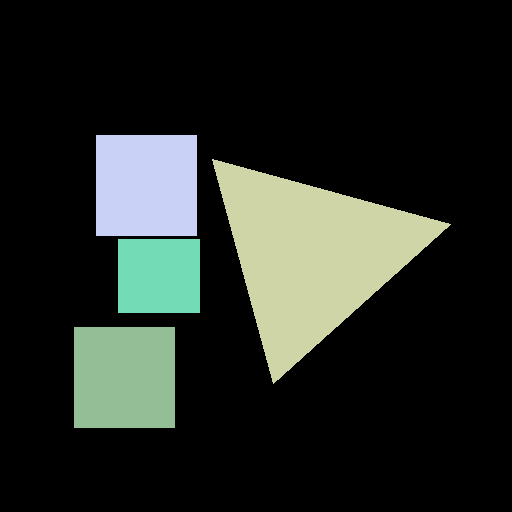rectangle: (118, 239, 199, 312)
square: (74, 327, 174, 427), (96, 135, 196, 235)
triangle: (212, 159, 450, 383)
